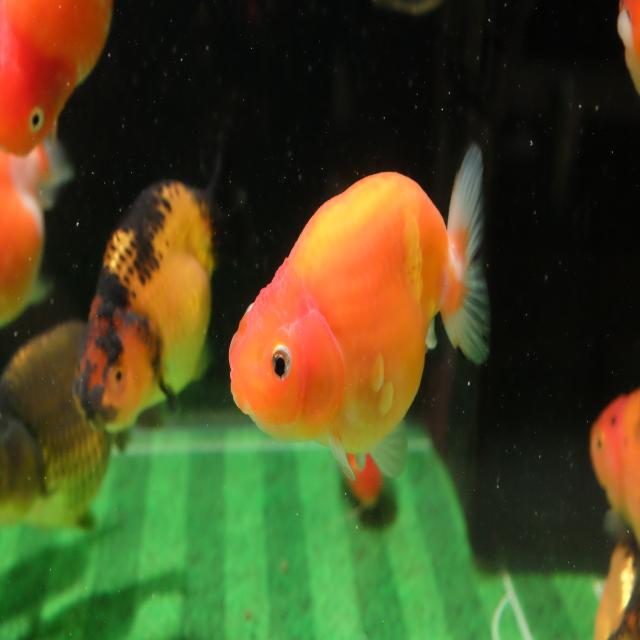Tilapia: (228, 139, 493, 484), (69, 149, 228, 438), (0, 318, 132, 536), (1, 0, 112, 159), (588, 388, 640, 556)
